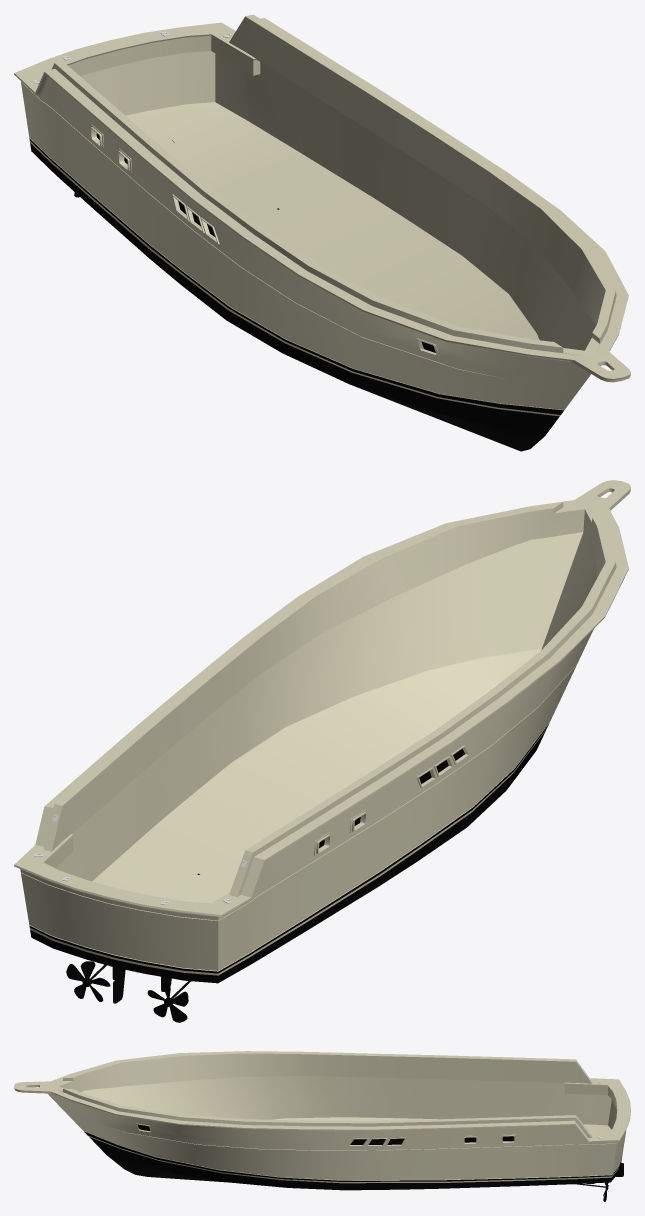
File: hatteras-hull-v1.glb
The picture shows the model from 3 angles, top to bottom: view 1: azimuth 30°, elevation 25°; view 2: azimuth 150°, elevation 25°; view 3: azimuth 270°, elevation 25°; orthographic projection. The views are drawn at different scales.
Parts seen in each view (by area): view 1: hull; view 2: hull; view 3: hull.
Boxes of the visible parts, <box> form: hull: <box>14,14,630,451</box>; hull: <box>14,480,630,1022</box>; hull: <box>14,1051,630,1201</box>.
Size of the model in its own units: 1.41 by 0.8829 by 4.75.
